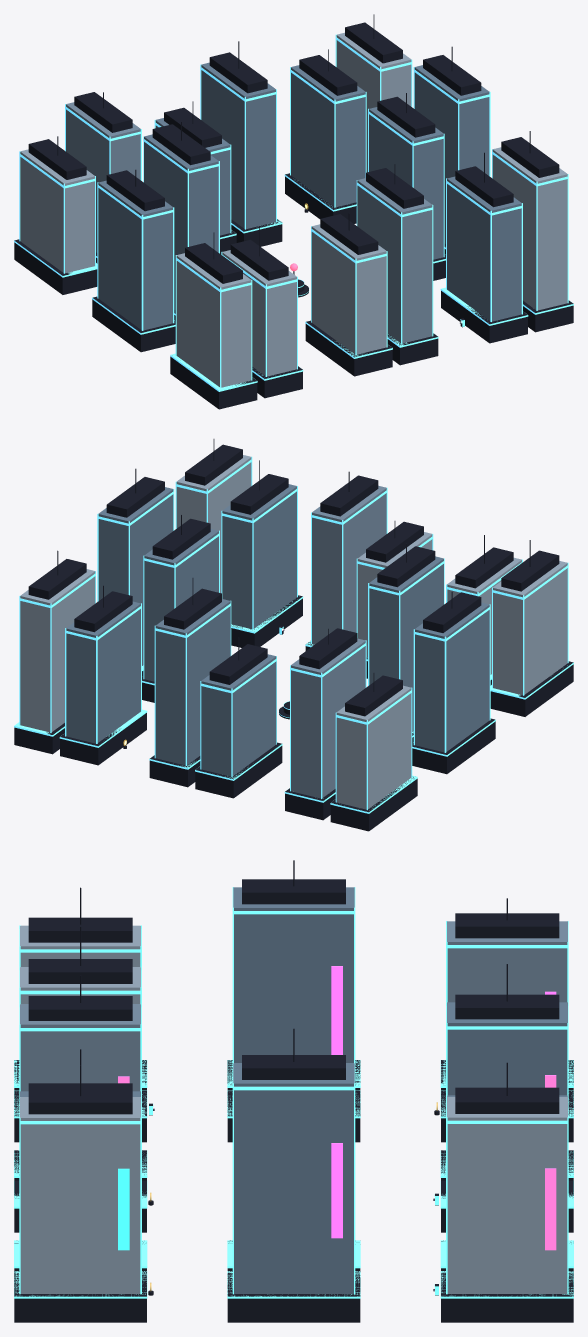
3 renders of one model, top to bottom at view 1: azimuth 30°, elevation 25°; view 2: azimuth 150°, elevation 25°; view 3: azimuth 270°, elevation 25°, orthographic. The views are drawn at different scales.
Visible parts, largest first — view 1: district_city_arcade.lod0; view 2: district_city_arcade.lod0; view 3: district_city_arcade.lod0.
Boxes of the visible parts, x1=… form: district_city_arcade.lod0: x1=14, y1=14, x2=573, y2=409; district_city_arcade.lod0: x1=14, y1=439, x2=573, y2=831; district_city_arcade.lod0: x1=14, y1=860, x2=573, y2=1322.
Bounding box in the file's own units: 97.1 × 53.78 × 97.1.
